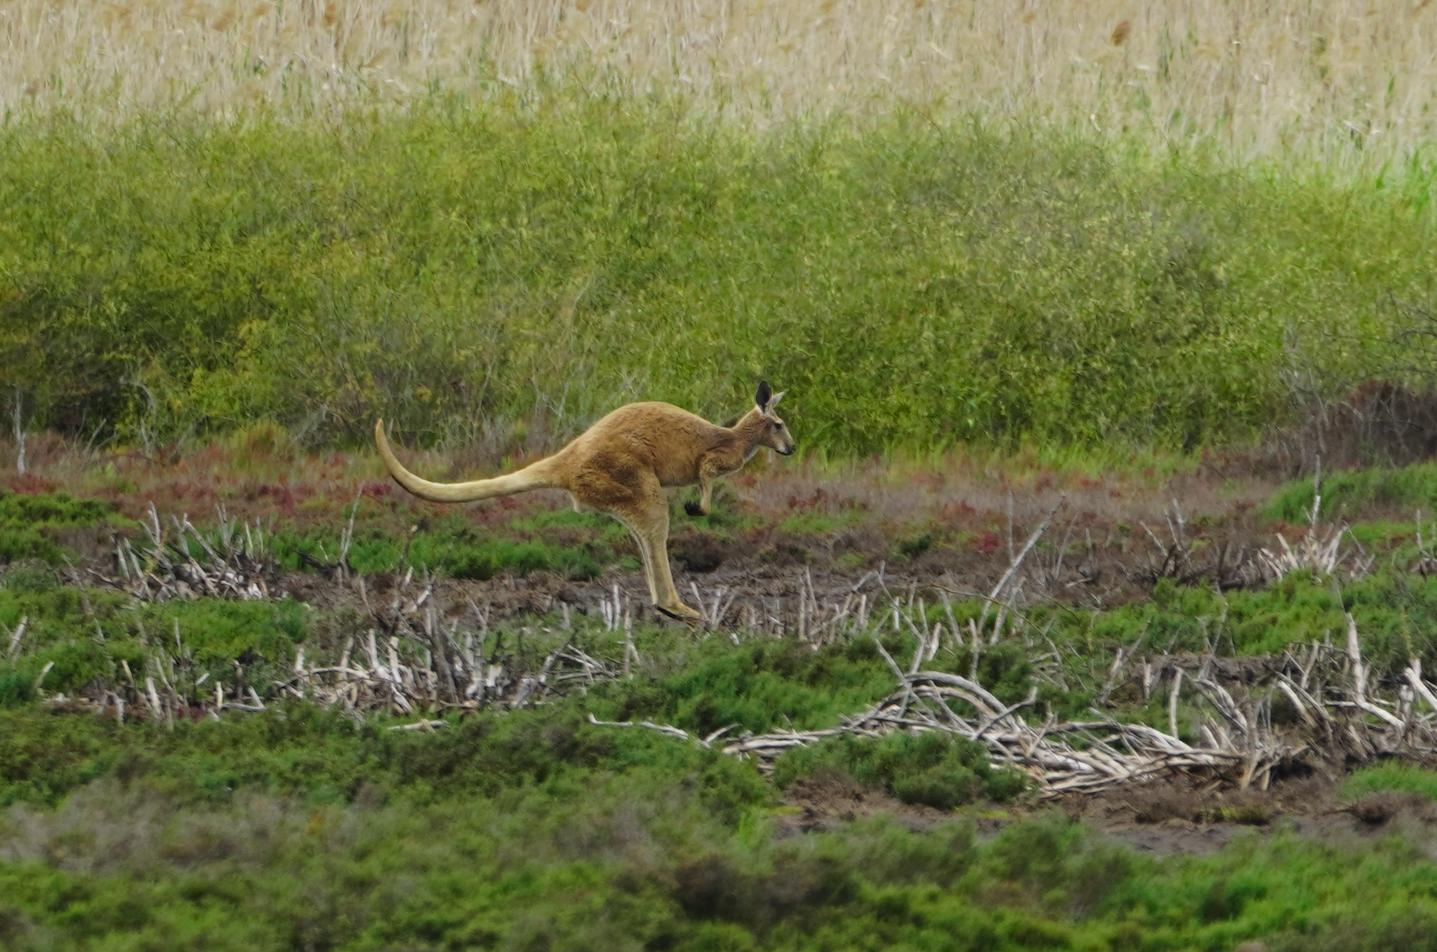Red kangaroo: (372, 376, 804, 627)
